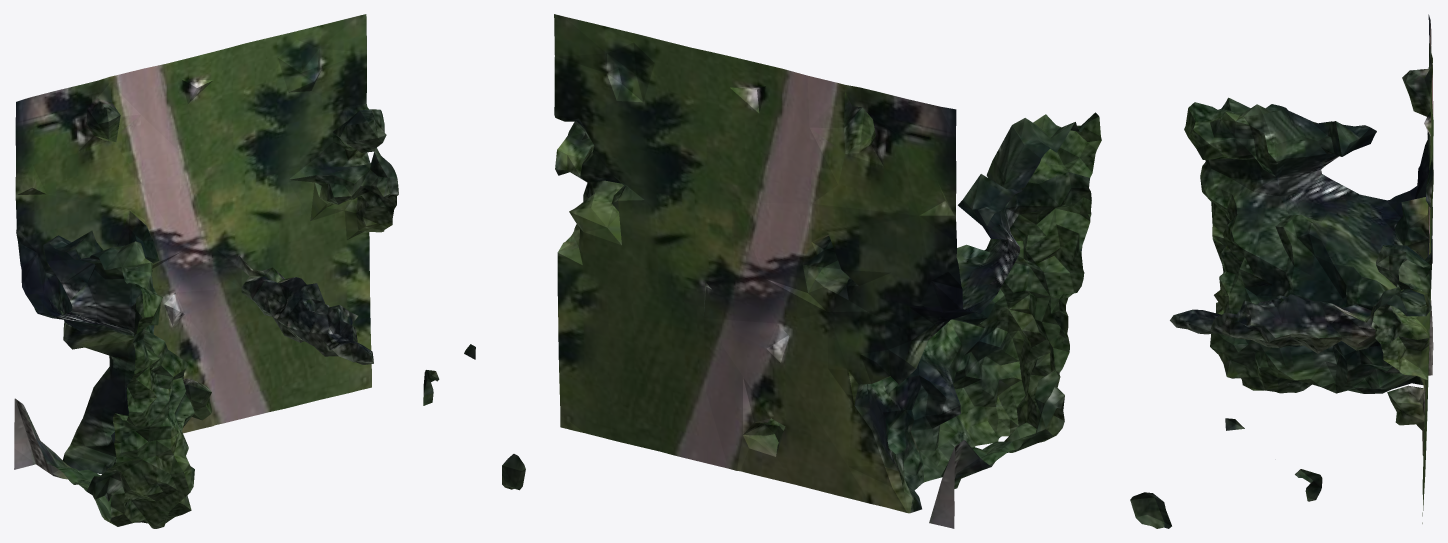
The model's file is Tile_+031_+023_L19_000122.obj.
The picture shows the model from 3 angles, left to right: view 1: azimuth 30°, elevation 25°; view 2: azimuth 150°, elevation 25°; view 3: azimuth 270°, elevation 25°; orthographic projection. The views are drawn at different scales.
Bounding box in the file's own units: 31.75 × 31.75 × 24.88.
1 material, 1 textured.
